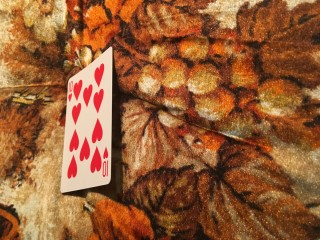TenOfHearts: (61, 47, 113, 196)
